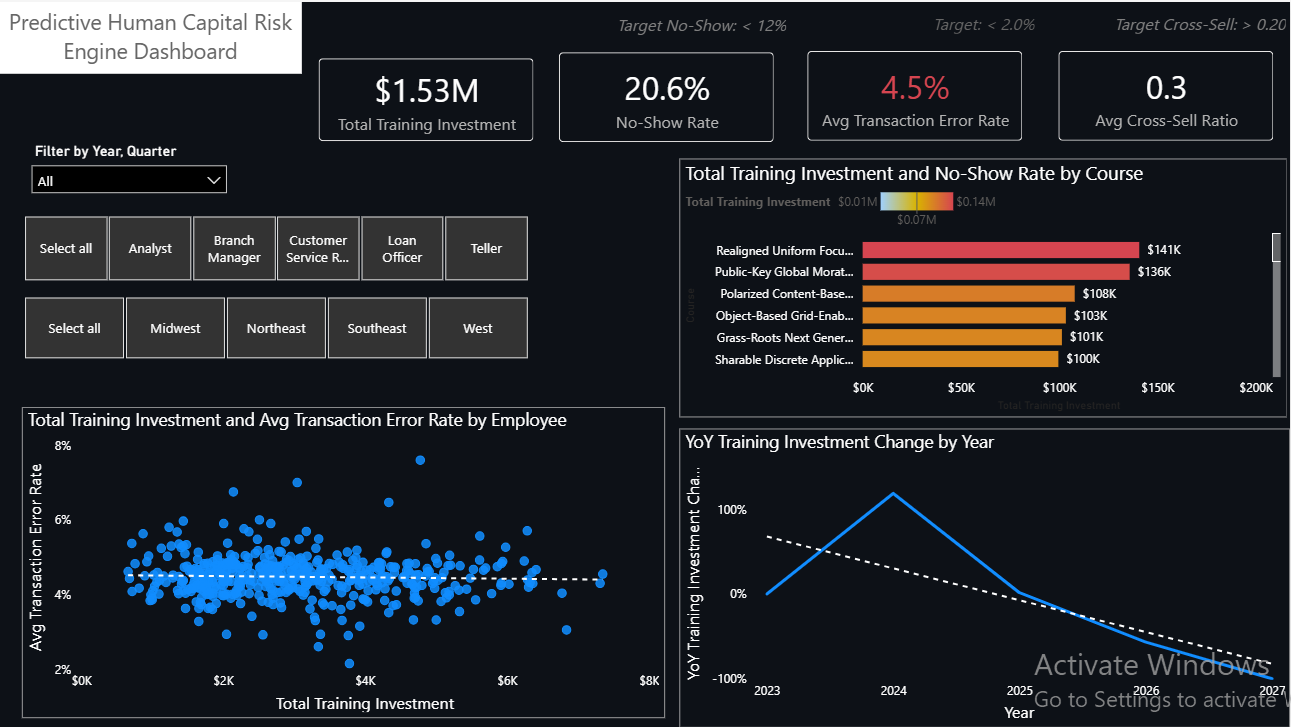

The dashboard page shown, as its layout file describes it:
{"tool":"powerbi","page":{"name":"Overall","canvas":[1280,720],"ordinal":0},"visuals":[{"type":"cardVisual","fields":{"Data":["_Key_Measures.Total Training Investment"]},"box":[299.5,38.7,247.9,116.1],"z":0},{"type":"cardVisual","title":"Target No-Show: < 12%","fields":{"Data":["_Key_Measures.No-Show Rate"]},"box":[537.1,11.4,247.1,144.3],"z":1000},{"type":"cardVisual","title":"Target: < 2.0%","fields":{"Data":["_Key_Measures.Avg Transaction Error Rate"]},"box":[784.3,10.4,247.1,144.3],"z":2000},{"type":"cardVisual","title":"Target Cross-Sell: > 0.20","fields":{"Data":["_Key_Measures.Avg Cross-Sell Ratio"]},"box":[1032.9,10.4,247.1,144.3],"z":3000},{"type":"scatterChart","fields":{"Category":["silver_employees.employee_id"],"X":["_Key_Measures.Total Training Investment"],"Y":["_Key_Measures.Avg Transaction Error Rate"]},"box":[23.2,401.2,637.2,308.5],"z":4000},{"type":"slicer","fields":{"Values":["silver_branches.region"]},"box":[0,286.8,547.4,73.9],"z":5000},{"type":"slicer","fields":{"Values":["silver_employees.job_title"]},"box":[0,205.7,547.4,76.8],"z":6000},{"type":"clusteredBarChart","fields":{"Category":["silver_courses.course_name"],"Y":["_Key_Measures.Total Training Investment"]},"box":[673.6,154.8,601.9,256.5],"z":7000},{"type":"textbox","box":[0,0,299.8,71],"z":8000},{"type":"lineChart","fields":{"Category":["Dim_Date.Year"],"Y":["_Key_Measures.YoY Training Investment Change"]},"box":[673.6,422.8,606.2,296.7],"z":9000},{"type":"slicer","fields":{"Values":["Dim_Date.Year","Dim_Date.Quarter"]},"box":[23.2,133.2,212.9,59.4],"z":10000}]}

Visuals, with their boxes in screenshot pixels (x1, y1, x2, y2), scaled from the page's 1280x720 canvas onto the 1291x727 screenshot:
cardVisual - _Key_Measures.Total Training Investment: 302 39 552 156
"Target No-Show: < 12%" cardVisual: 542 12 791 157
"Target: < 2.0%" cardVisual: 791 11 1040 156
"Target Cross-Sell: > 0.20" cardVisual: 1042 11 1290 156
scatterChart - silver_employees.employee_id x _Key_Measures.Total Training Investment: 23 405 666 717
slicer - silver_branches.region: 0 290 552 364
slicer - silver_employees.job_title: 0 208 552 285
clusteredBarChart - silver_courses.course_name x _Key_Measures.Total Training Investment: 679 156 1286 415
textbox: 0 0 302 72
lineChart - Dim_Date.Year x _Key_Measures.YoY Training Investment Change: 679 427 1290 726
slicer - Dim_Date.Year x Dim_Date.Quarter: 23 134 238 194
